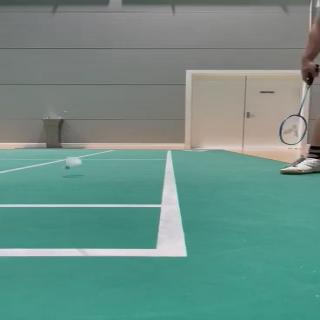Shuttle: (63, 156, 82, 170)
